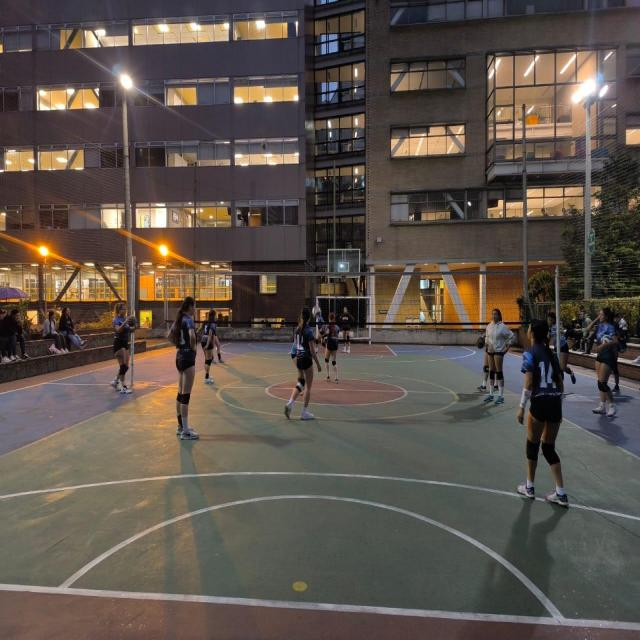volleyball: (600, 334, 613, 344), (312, 306, 321, 318), (476, 336, 484, 348)
